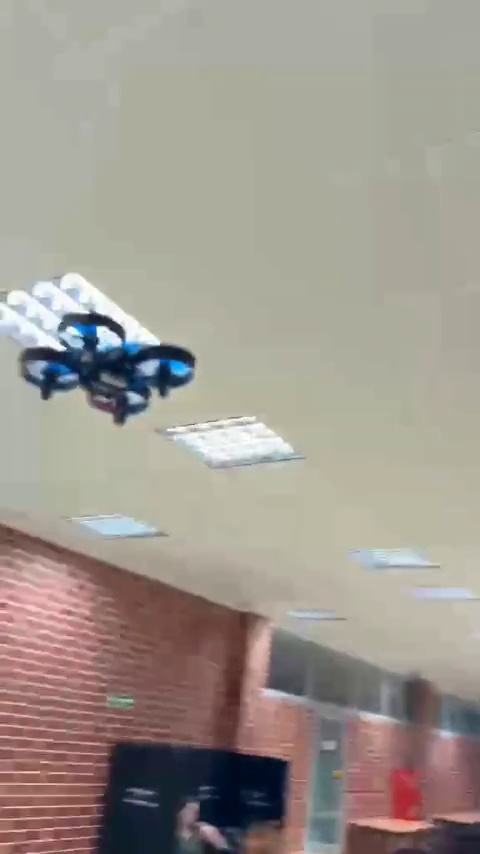drone: (23, 311, 196, 426)
